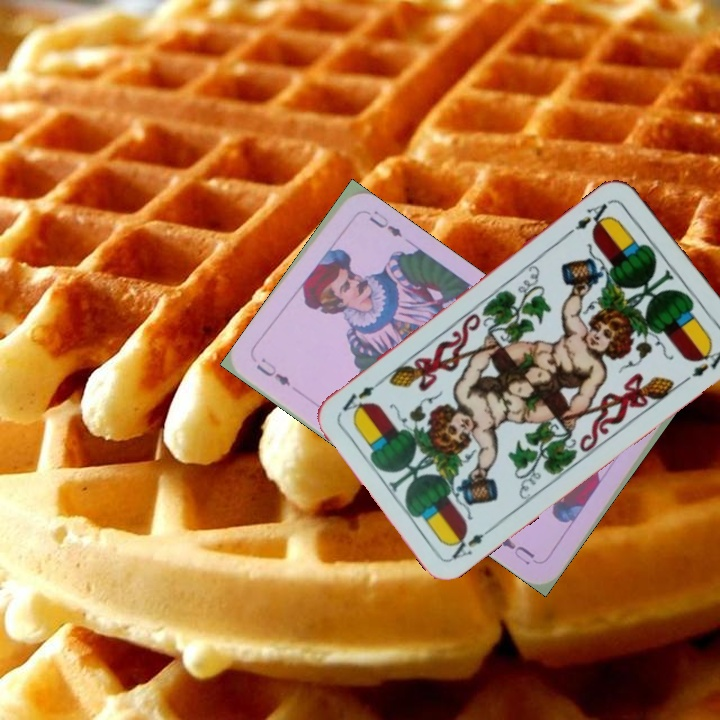EA: (445, 521, 498, 563), (564, 196, 616, 237)
EU: (252, 354, 293, 389)
